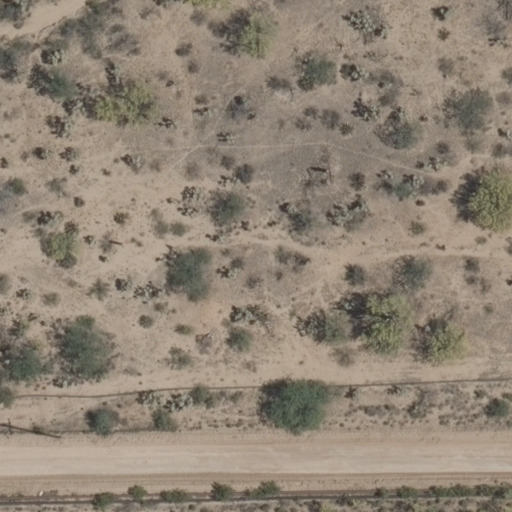DT: (28, 426, 66, 444)
